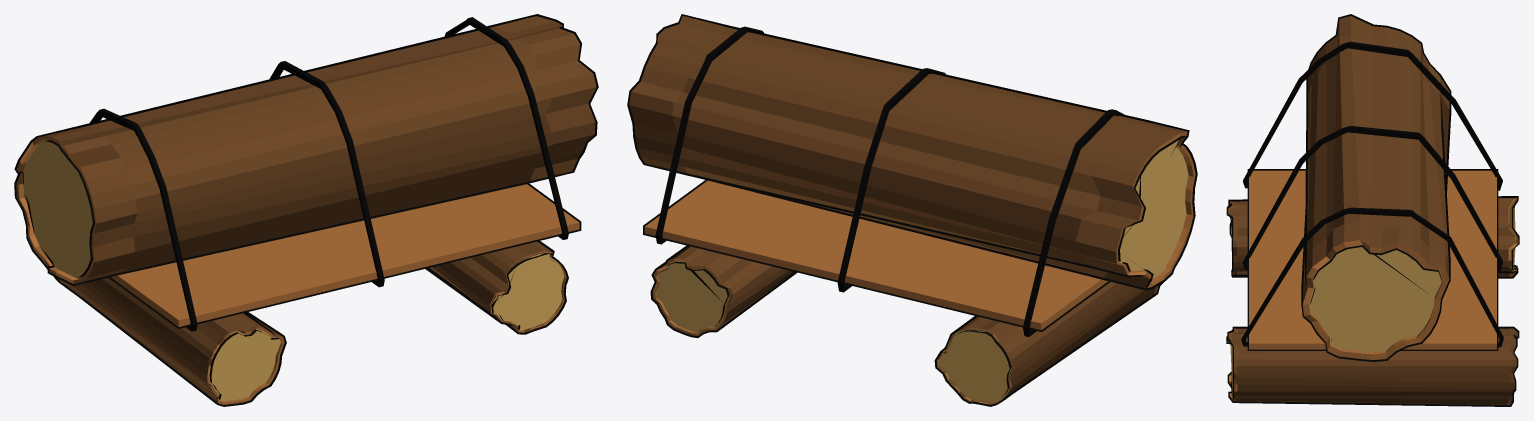
Rendered from tronco.fbx.
3 renders of one model, left to right at view 1: azimuth 30°, elevation 25°; view 2: azimuth 150°, elevation 25°; view 3: azimuth 270°, elevation 25°, orthographic. The views are drawn at different scales.
Visible parts, largest first — view 1: Cylinder.011, Cylinder.002, Cylinder.001; view 2: Cylinder.011, Cylinder.002, Cylinder.001; view 3: Cylinder.011, Cylinder.001, Cylinder.002.
Part boxes in pixels (box(x1,y1,x2,y2)): Cylinder.011: box(14, 14, 598, 331); Cylinder.002: box(54, 277, 286, 406); Cylinder.001: box(425, 241, 568, 334); Cylinder.011: box(627, 14, 1197, 336); Cylinder.002: box(934, 282, 1163, 406); Cylinder.001: box(650, 245, 797, 337); Cylinder.011: box(1241, 14, 1503, 361); Cylinder.001: box(1226, 326, 1519, 406); Cylinder.002: box(1226, 196, 1519, 278).
Bounding box in the file's own units: 745 × 1335 × 599.
